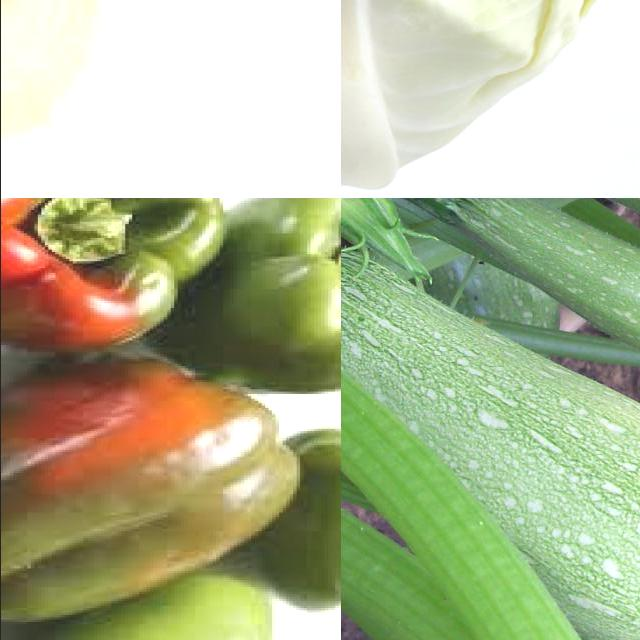bell_pepper: (1, 334, 315, 637), (144, 199, 341, 411), (1, 199, 248, 347), (233, 423, 341, 632), (1, 570, 294, 640)
cabbage: (341, 1, 624, 193)
onion: (1, 1, 123, 146)
zucchini: (341, 241, 640, 640)
